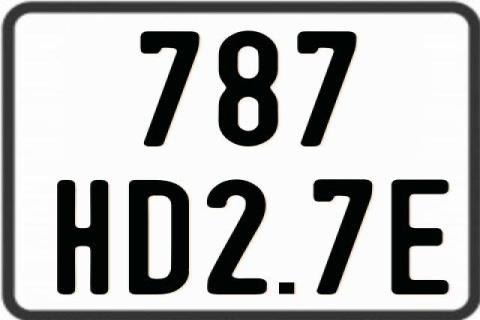0: (297, 29, 362, 150), (215, 28, 279, 147), (137, 30, 201, 148), (206, 177, 270, 293), (311, 177, 371, 297)
D: (126, 180, 192, 296)
E: (391, 178, 454, 294)
H: (54, 179, 105, 296)
